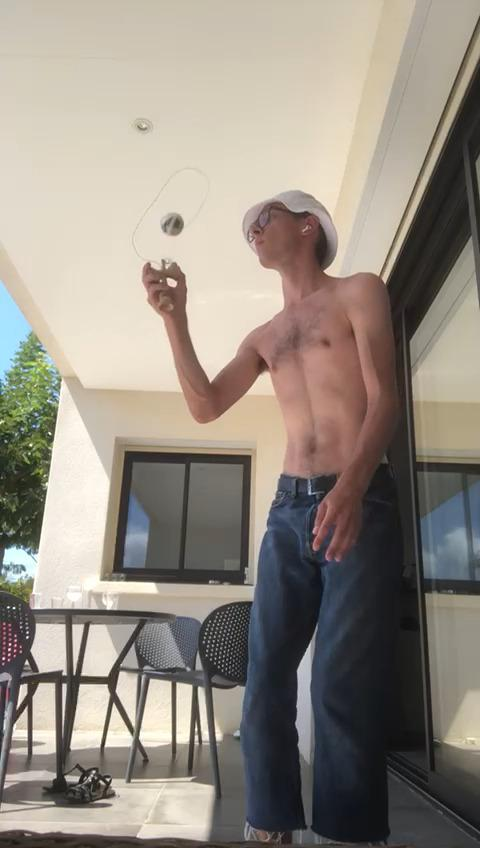kendama_ball: (160, 212, 184, 236)
